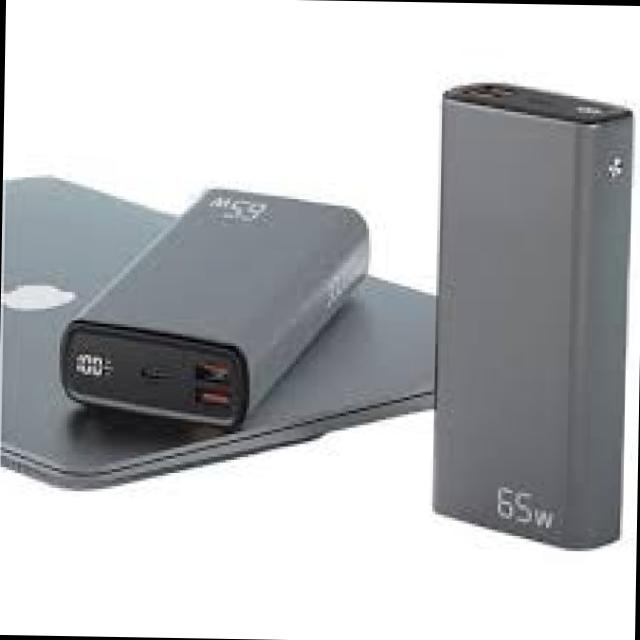portable-charger: (426, 79, 636, 552), (55, 181, 372, 427)
